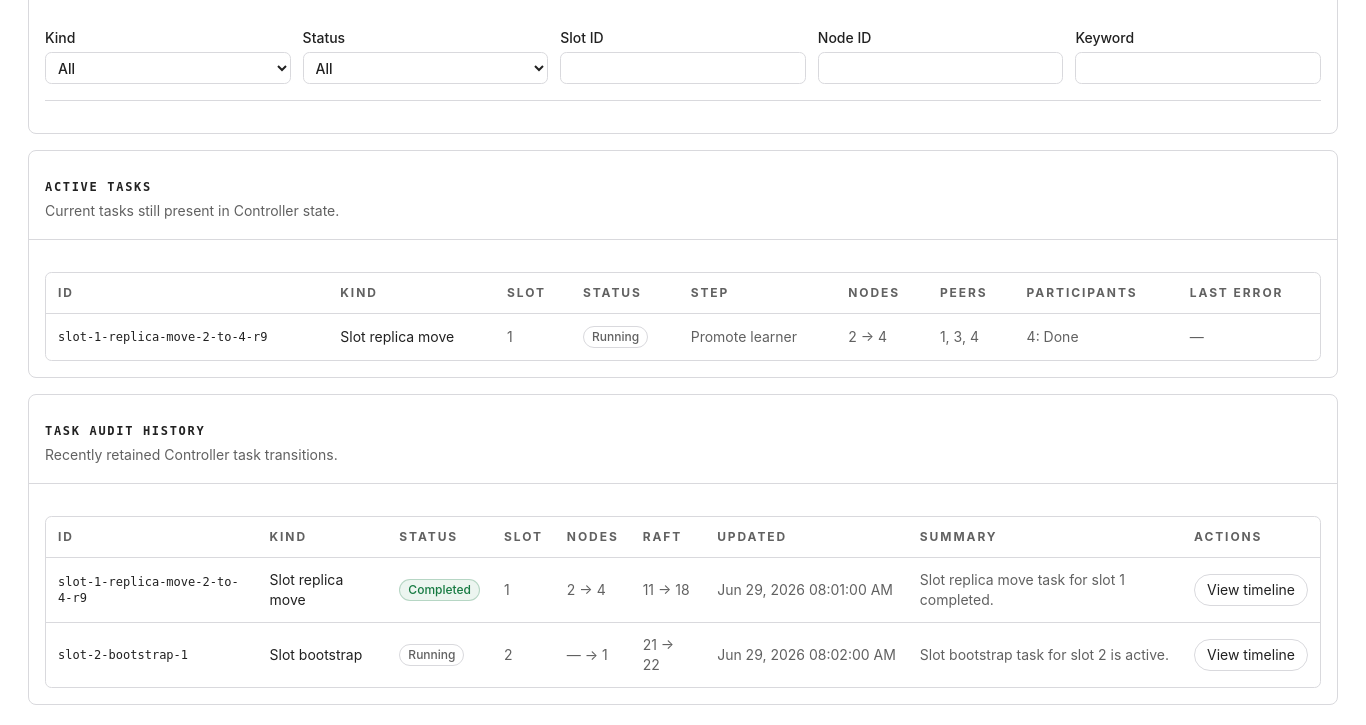
Test: opens retained task audit timeline
(page scrolled)
Step 1. Click the button "View timeline" in the row of "11" → (1251, 590), box [1194,574,1308,606]
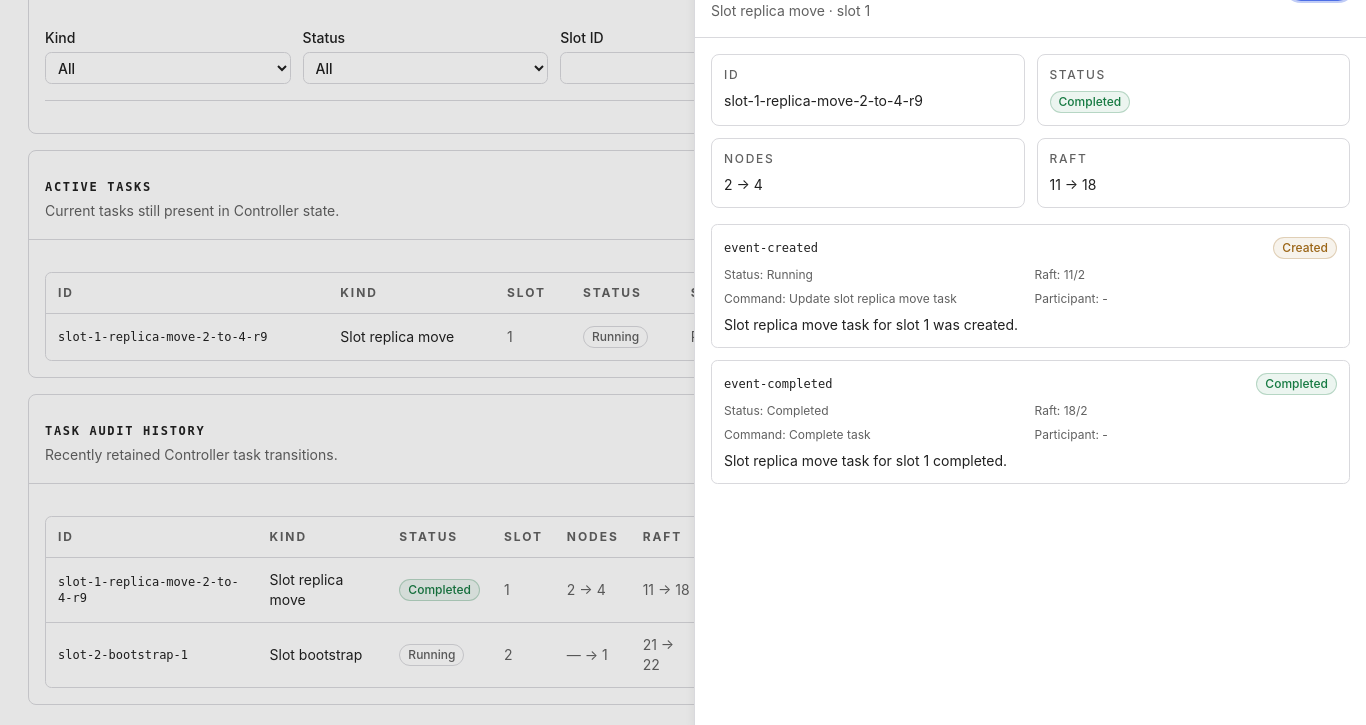
Expected: the text "event-created" is shown, [724,240,818,256]
Expected: the text "Slot replica move task for slot 1 was created." is shown, [724,316,1018,333]
Expected: the text "Slot replica move task for slot 1 completed." is shown, [724,452,1007,469]
